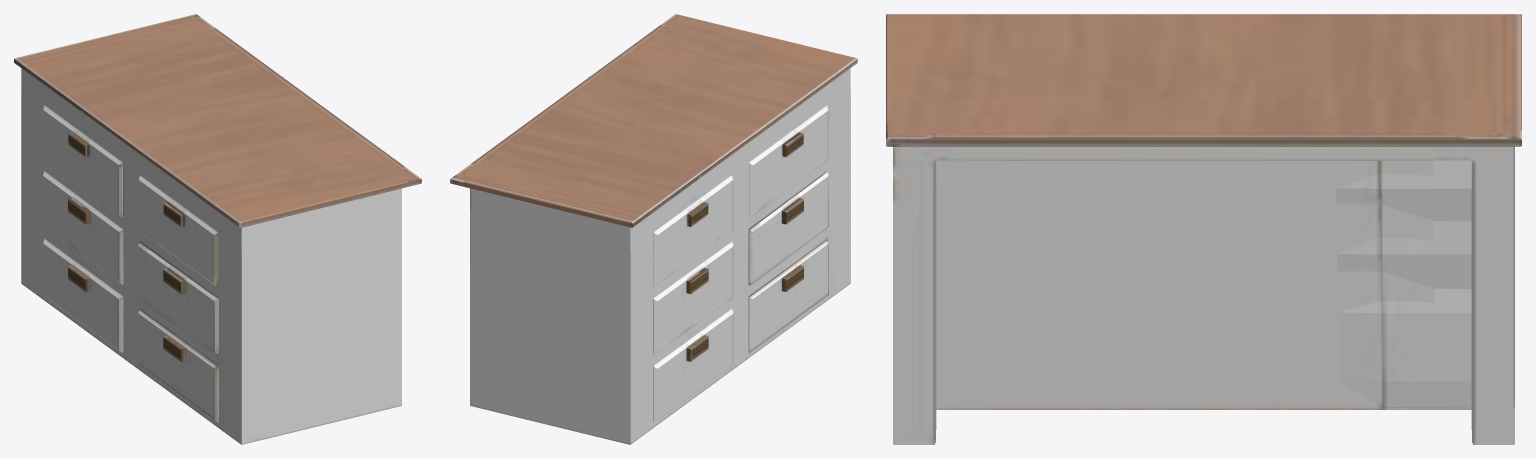
The model's file is kitchen-island.glb.
The picture shows the model from 3 angles, left to right: view 1: azimuth 30°, elevation 25°; view 2: azimuth 150°, elevation 25°; view 3: azimuth 270°, elevation 25°; orthographic projection. The views are drawn at different scales.
Parts seen in each view (by area): view 1: Island; view 2: Island; view 3: Island.
Boxes of the visible parts, box(x1,y1,x2,y2) form: Island: box(14, 14, 421, 444); Island: box(450, 14, 857, 444); Island: box(886, 14, 1521, 444).
Size of the model in its own units: 2.41 by 2.81 by 5.1.
1 material, 1 textured.
